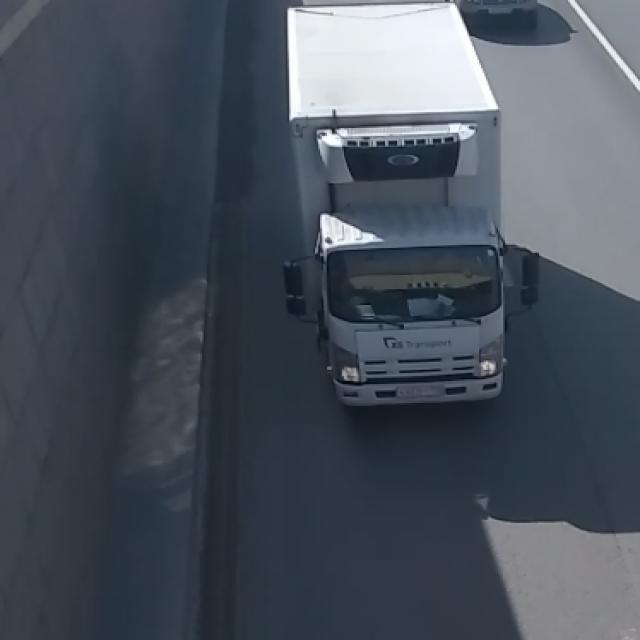truck: (280, 0, 542, 413)
